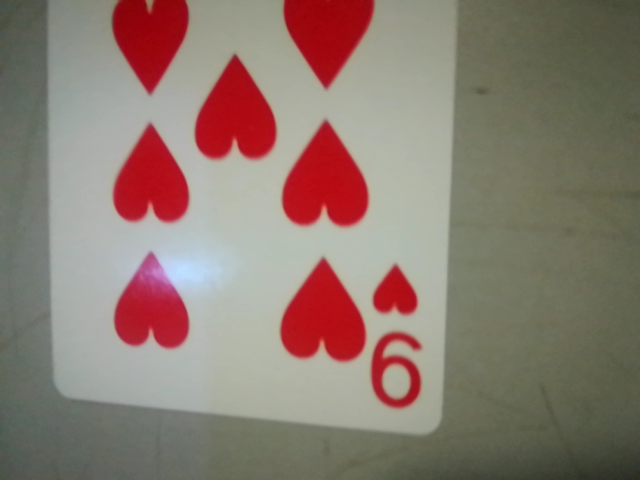hx 9: (360, 252, 439, 422)
